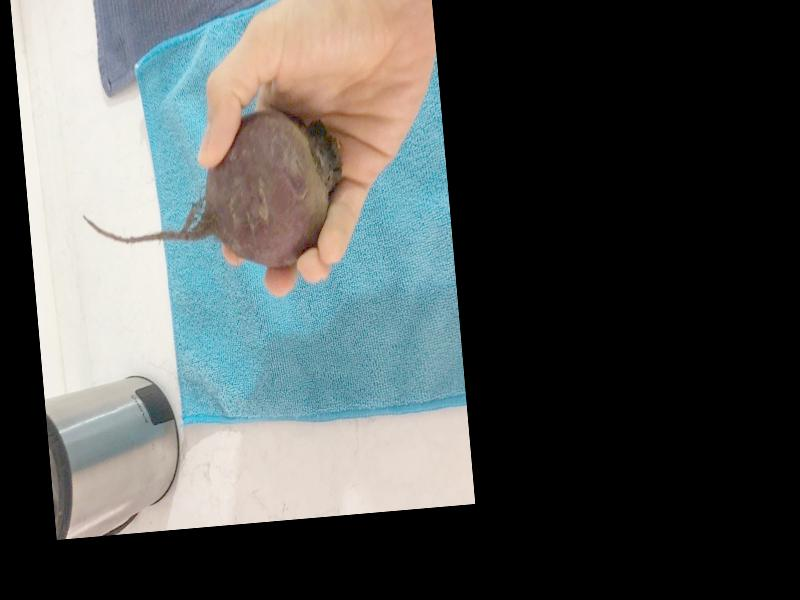Beet: (76, 104, 350, 284)
